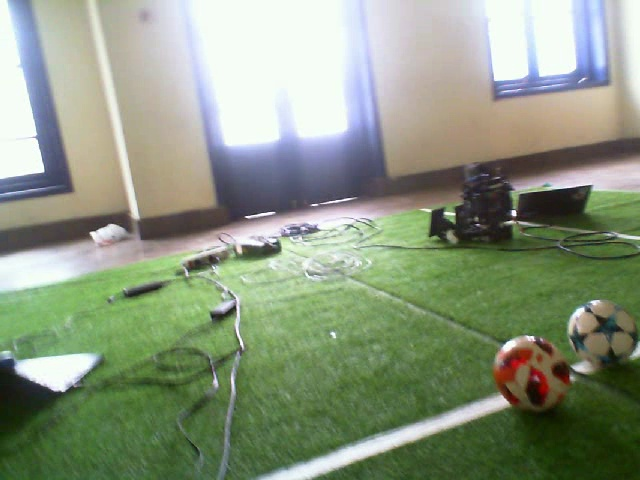ball: (490, 332, 573, 416), (574, 297, 640, 375)
